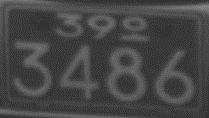3: (12, 40, 52, 98), (54, 11, 82, 38)
4: (58, 43, 99, 100)
6: (154, 48, 195, 105)
8: (106, 45, 147, 103)
9: (86, 13, 116, 40)
오: (120, 14, 149, 42)
